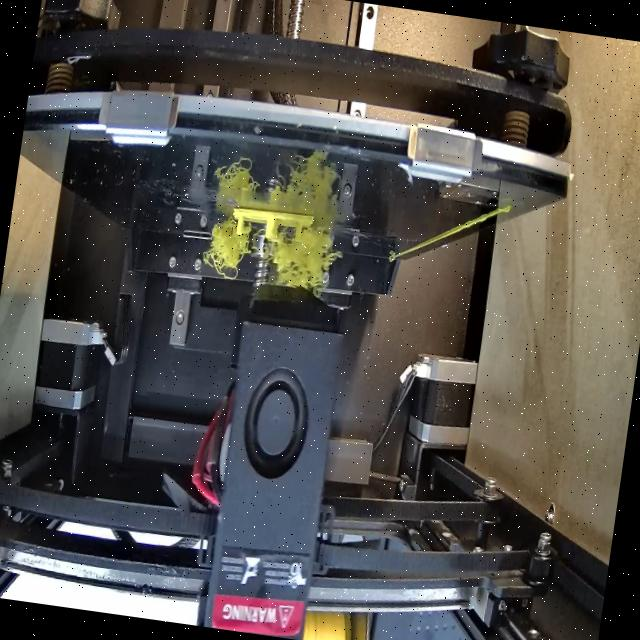spaghetti: (266, 225, 343, 292), (201, 214, 256, 289)
